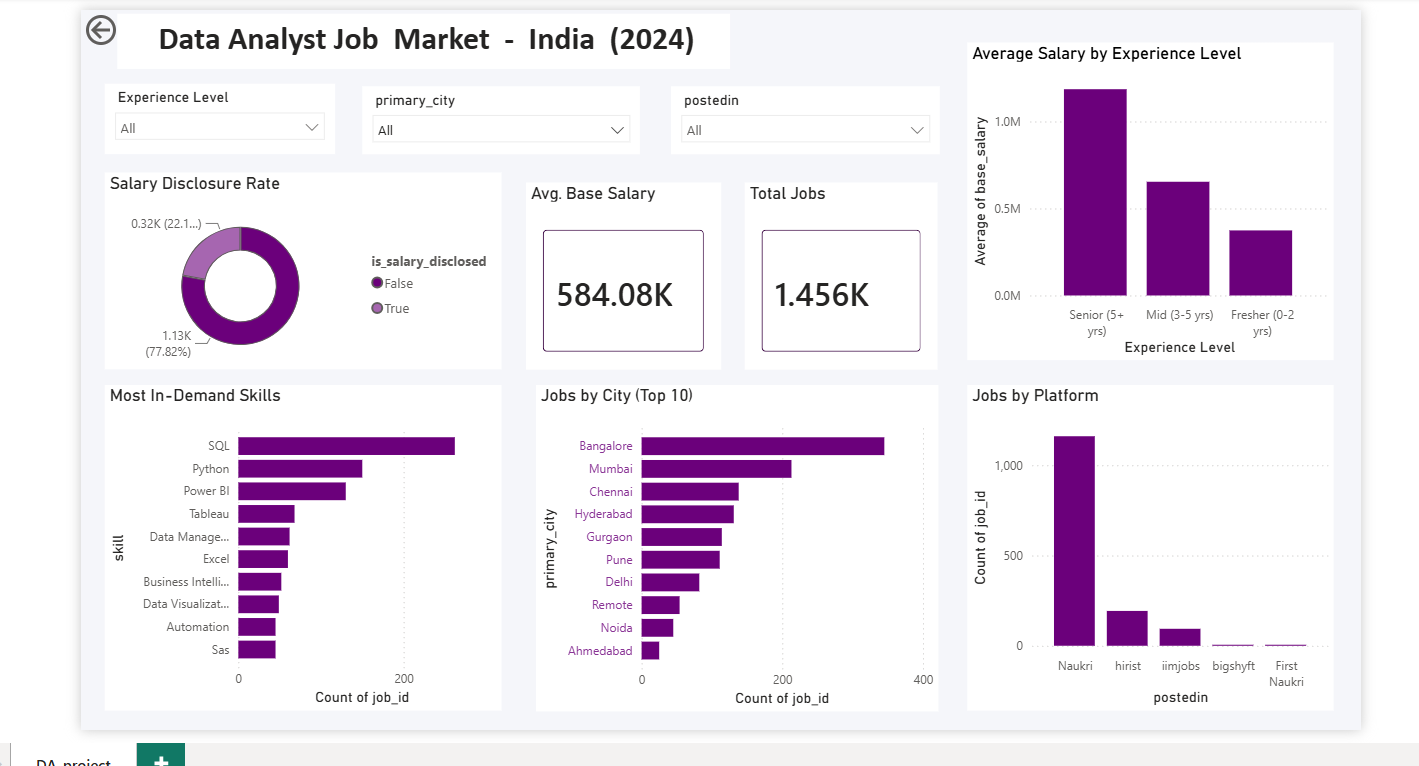

The page's visual inventory and layout, read from the dashboard file:
{"tool":"powerbi","page":{"name":"DA_project","canvas":[1280,720],"ordinal":0},"visuals":[{"type":"actionButton","box":[0,0,100,40],"z":0},{"type":"clusteredBarChart","title":"Jobs by City (Top 10)","fields":{"Category":["data_analyst_jobs_india jobs.primary_city"],"Y":["CountNonNull(data_analyst_jobs_india jobs.job_id)"]},"box":[454.4,375.6,402.2,326.7],"z":1000},{"type":"clusteredBarChart","title":"Most In-Demand Skills","fields":{"Category":["data_analyst_jobs_india job_skills.skill"],"Y":["CountNonNull(data_analyst_jobs_india job_skills.job_id)"]},"box":[23.3,374.4,396.7,325.6],"z":2000},{"type":"cardVisual","title":"Total Jobs","fields":{"Data":["CountNonNull(data_analyst_jobs_india jobs.job_id)"]},"box":[664,172,193,187],"z":3000},{"type":"cardVisual","title":"Avg. Base Salary","fields":{"Data":["Avg(data_analyst_jobs_india jobs.base_salary)"]},"box":[445,172,195,187],"z":4000},{"type":"donutChart","title":"Salary Disclosure Rate","fields":{"Category":["data_analyst_jobs_india jobs.is_salary_disclosed"],"Y":["CountNonNull(data_analyst_jobs_india jobs.job_id)"]},"box":[23.3,162.2,396.7,196.7],"z":5000},{"type":"clusteredColumnChart","title":"Average Salary by Experience Level","fields":{"Category":["data_analyst_jobs_india jobs.Experience Level"],"Y":["Avg(data_analyst_jobs_india jobs.base_salary)"]},"box":[886.7,32.2,366.7,317.8],"z":6000},{"type":"clusteredColumnChart","title":"Jobs by Platform","fields":{"Category":["data_analyst_jobs_india jobs.postedin"],"Y":["CountNonNull(data_analyst_jobs_india jobs.job_id)"]},"box":[886.7,375.6,366.7,325.6],"z":7000},{"type":"slicer","fields":{"Values":["data_analyst_jobs_india jobs.primary_city"]},"box":[281.1,76.7,277.8,67.8],"z":8000},{"type":"slicer","fields":{"Values":["data_analyst_jobs_india jobs.Experience Level"]},"box":[23.3,73.3,230,70],"z":9000},{"type":"slicer","fields":{"Values":["data_analyst_jobs_india jobs.postedin"]},"box":[590,76.7,268.9,67.8],"z":10000},{"type":"textbox","box":[36,4,613,55],"z":11000}]}

Visuals, with their boxes on the page's 1280x720 design canvas (x1, y1, x2, y2). These are canvas units, not pixel positions in the 1419x766 screenshot, which may show the page scaled, cropped or inside an application window:
actionButton: [0,0,100,40]
"Jobs by City (Top 10)" clusteredBarChart: [454,376,857,702]
"Most In-Demand Skills" clusteredBarChart: [23,374,420,700]
"Total Jobs" cardVisual: [664,172,857,359]
"Avg. Base Salary" cardVisual: [445,172,640,359]
"Salary Disclosure Rate" donutChart: [23,162,420,359]
"Average Salary by Experience Level" clusteredColumnChart: [887,32,1253,350]
"Jobs by Platform" clusteredColumnChart: [887,376,1253,701]
slicer - data_analyst_jobs_india jobs.primary_city: [281,77,559,144]
slicer - data_analyst_jobs_india jobs.Experience Level: [23,73,253,143]
slicer - data_analyst_jobs_india jobs.postedin: [590,77,859,144]
textbox: [36,4,649,59]
